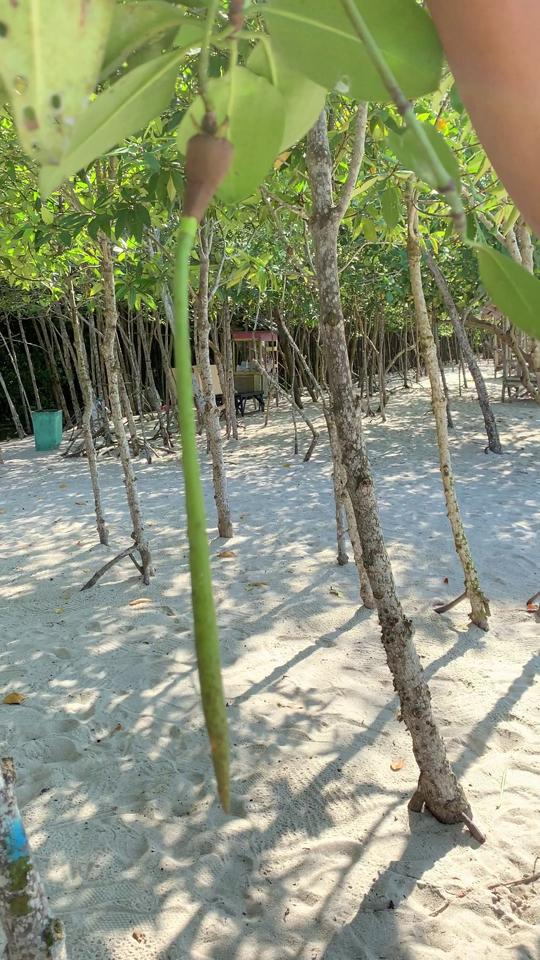setengah matang: (166, 111, 256, 833)
